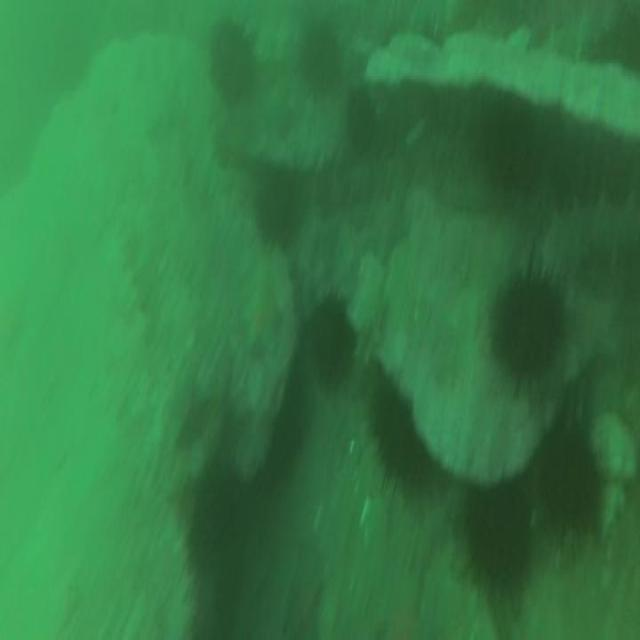echinus: (540, 425, 600, 544), (500, 272, 558, 381), (188, 460, 242, 572), (468, 490, 529, 588), (484, 96, 538, 192), (371, 387, 425, 482), (312, 292, 355, 386), (210, 24, 258, 98), (256, 172, 300, 252), (297, 22, 341, 97), (347, 90, 374, 149)
holothurian: (545, 201, 640, 278)
starfish: (285, 558, 327, 630), (365, 197, 409, 264), (241, 282, 283, 350)
